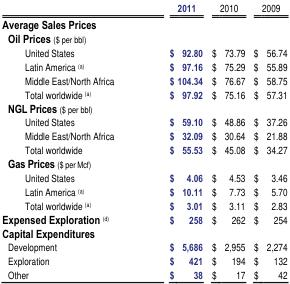table: (1, 0, 286, 281)
table column: (1, 0, 141, 281), (141, 0, 206, 281), (206, 0, 248, 281), (248, 0, 286, 281)
table column header: (1, 0, 286, 16)
table projected row header: (1, 16, 286, 31), (1, 100, 286, 114), (1, 225, 286, 239), (1, 31, 286, 44), (1, 156, 286, 169)
table row: (1, 0, 286, 16), (1, 16, 286, 31), (1, 44, 286, 58), (1, 58, 286, 72), (1, 72, 286, 86), (1, 86, 286, 100), (1, 100, 286, 114), (1, 114, 286, 128), (1, 128, 286, 142), (1, 142, 286, 156), (1, 169, 286, 183), (1, 183, 286, 197), (1, 197, 286, 211), (1, 211, 286, 225), (1, 225, 286, 239), (1, 239, 286, 253), (1, 253, 286, 267), (1, 267, 286, 281), (1, 31, 286, 44), (1, 156, 286, 169)
